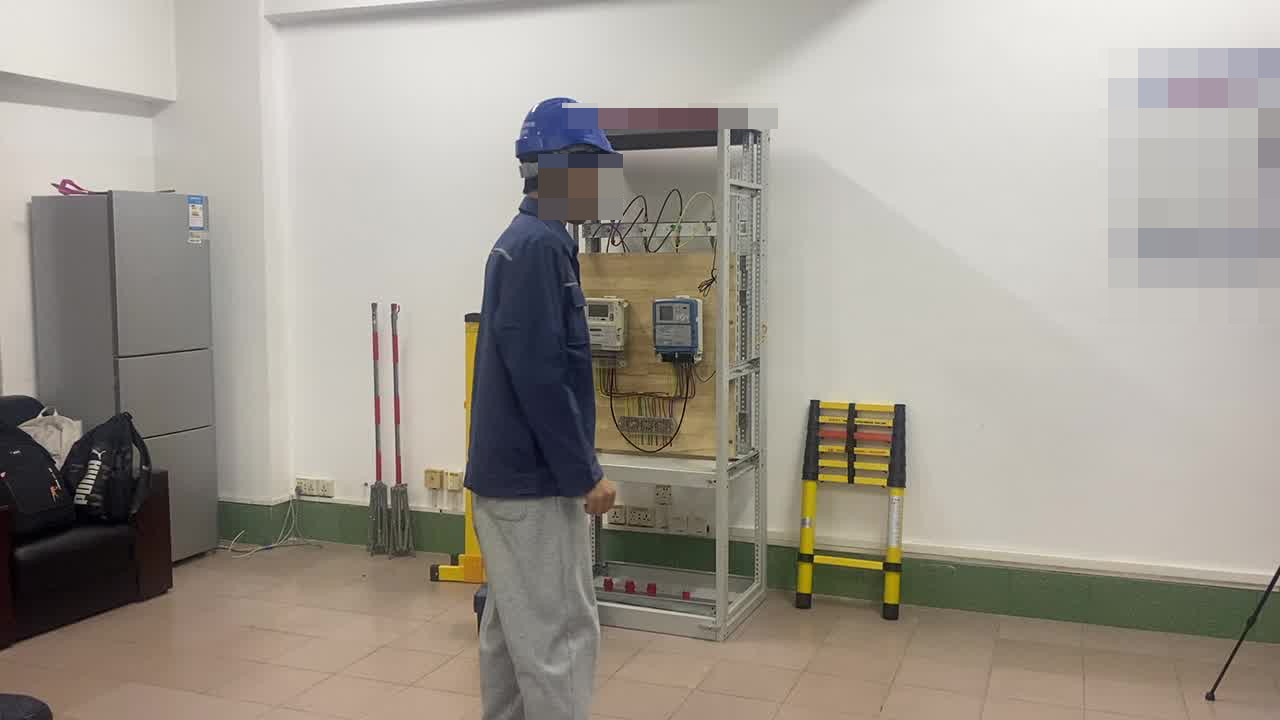downcloth: (463, 492, 606, 720)
halt: (513, 96, 618, 218)
hand: (582, 478, 620, 519)
noear: (548, 153, 596, 214)
person: (455, 95, 628, 720)
upsuit: (461, 203, 608, 497)
